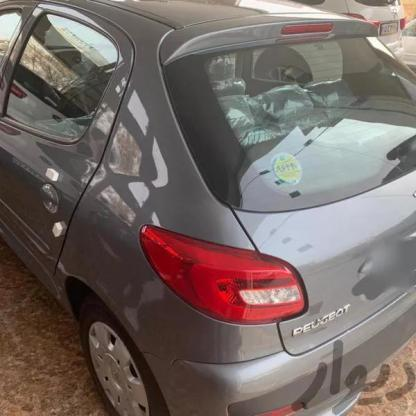Car: (0, 0, 416, 416), (314, 0, 412, 72)
